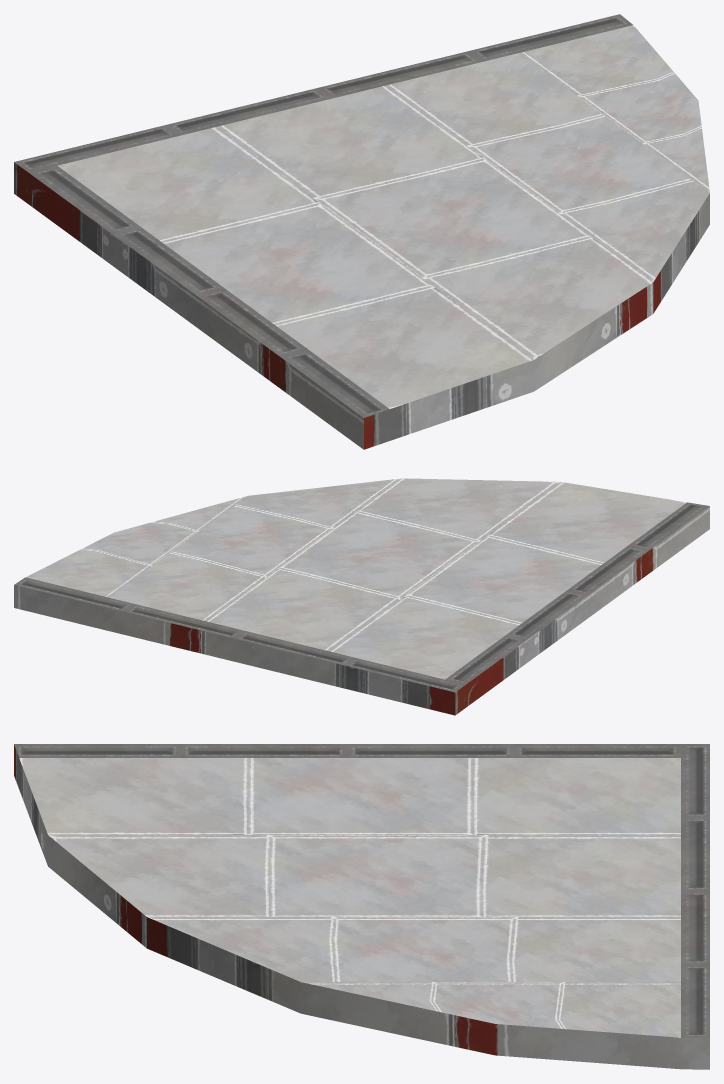
File: SM_Floor_Circular_A.fbx
The picture shows the model from 3 angles, top to bottom: view 1: azimuth 30°, elevation 25°; view 2: azimuth 150°, elevation 25°; view 3: azimuth 270°, elevation 25°; orthographic projection. The views are drawn at different scales.
Parts seen in each view (by area): view 1: SM_Floor_Circular_A; view 2: SM_Floor_Circular_A; view 3: SM_Floor_Circular_A.
Boxes of the visible parts, box(x1,y1,x2,y2) form: SM_Floor_Circular_A: box(14, 14, 709, 449); SM_Floor_Circular_A: box(14, 478, 709, 715); SM_Floor_Circular_A: box(14, 744, 709, 1069).
Bounding box in the file's own units: 200 × 10 × 200.
Materials: 1 (1 with a texture image).
